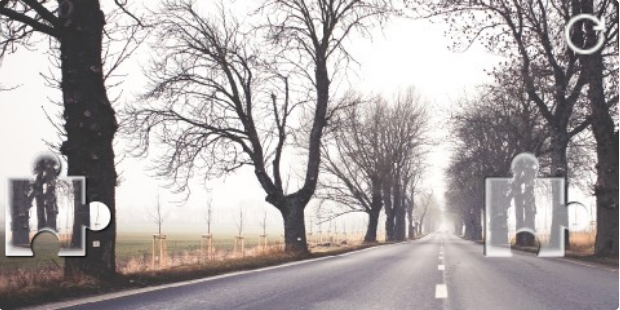target: (485, 152, 589, 258)
